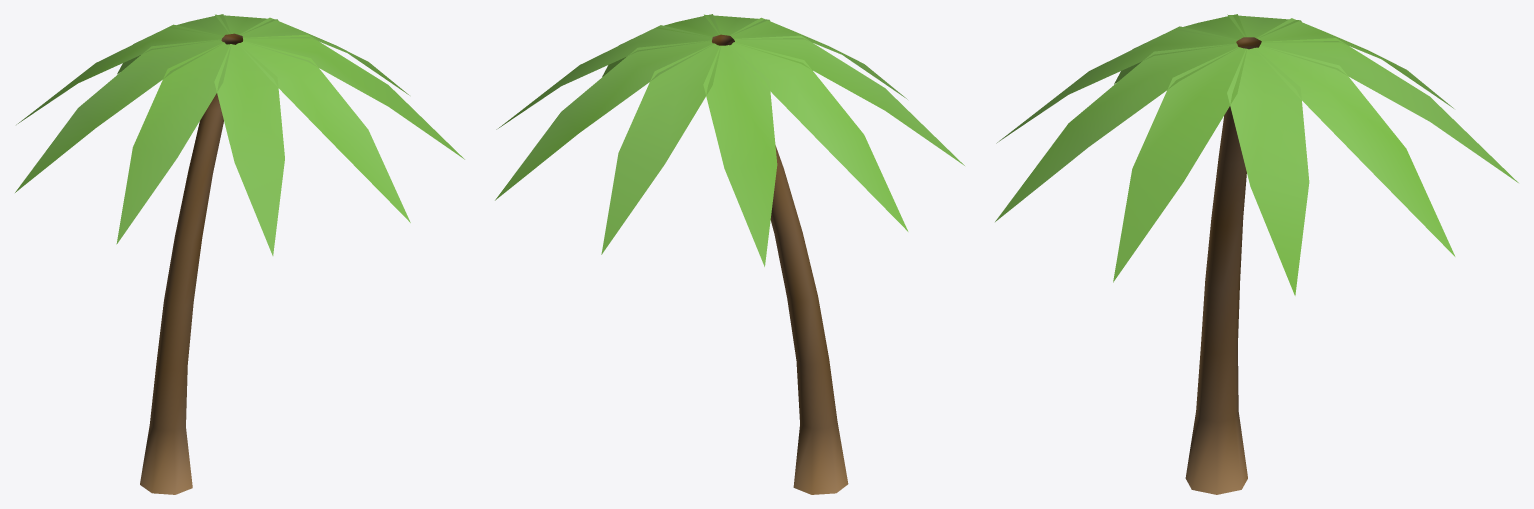
The model's file is world_tree_palm_a.fbx.
3 renders of one model, left to right at view 1: azimuth 30°, elevation 25°; view 2: azimuth 150°, elevation 25°; view 3: azimuth 270°, elevation 25°, orthographic. The views are drawn at different scales.
Visible parts, largest first — view 1: world_tree_palm_a; view 2: world_tree_palm_a; view 3: world_tree_palm_a.
Boxes of the visible parts, bbox=[...] form: world_tree_palm_a: bbox=[15, 14, 464, 494]; world_tree_palm_a: bbox=[495, 14, 964, 494]; world_tree_palm_a: bbox=[995, 14, 1518, 494].
Bounding box in the file's own units: 999 × 1000 × 984.
